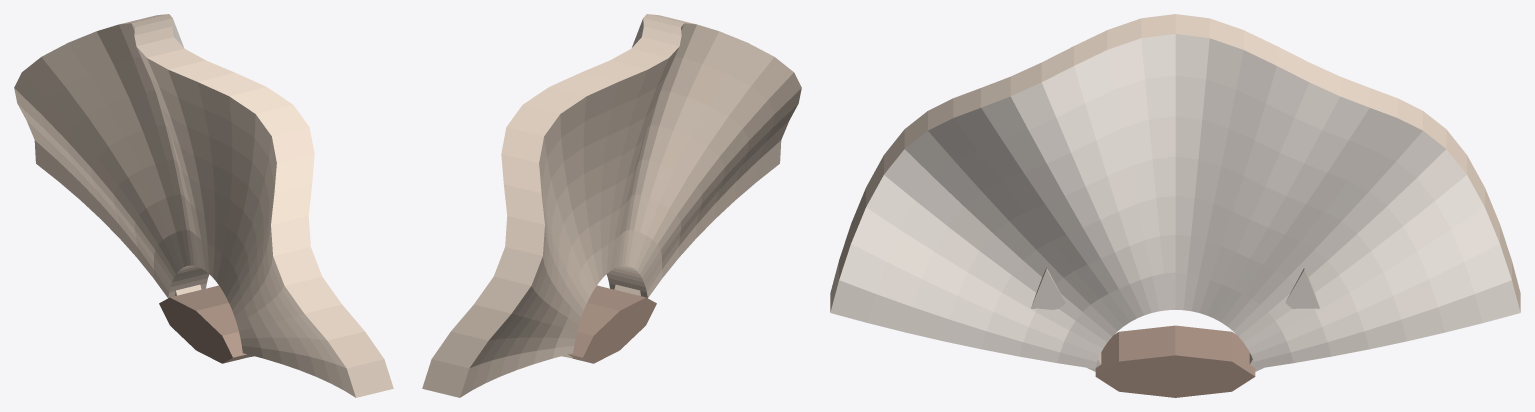
The model's file is 45-Arte3D_vieira_playa.glb.
3 renders of one model, left to right at view 1: azimuth 30°, elevation 25°; view 2: azimuth 150°, elevation 25°; view 3: azimuth 270°, elevation 25°, orthographic. The views are drawn at different scales.
Visible parts, largest first — view 1: SM_Vieira_M_Vieira_Exterior_Vieira_Interior_Vieira_Bisagra; view 2: SM_Vieira_M_Vieira_Exterior_Vieira_Interior_Vieira_Bisagra; view 3: SM_Vieira_M_Vieira_Exterior_Vieira_Interior_Vieira_Bisagra.
Part boxes in pixels (x1,y1,x2,y2): SM_Vieira_M_Vieira_Exterior_Vieira_Interior_Vieira_Bisagra: (14,14,393,397); SM_Vieira_M_Vieira_Exterior_Vieira_Interior_Vieira_Bisagra: (422,14,801,397); SM_Vieira_M_Vieira_Exterior_Vieira_Interior_Vieira_Bisagra: (830,14,1520,397).
Size of the model in its own units: 0.056 by 0.154 by 0.2934.
